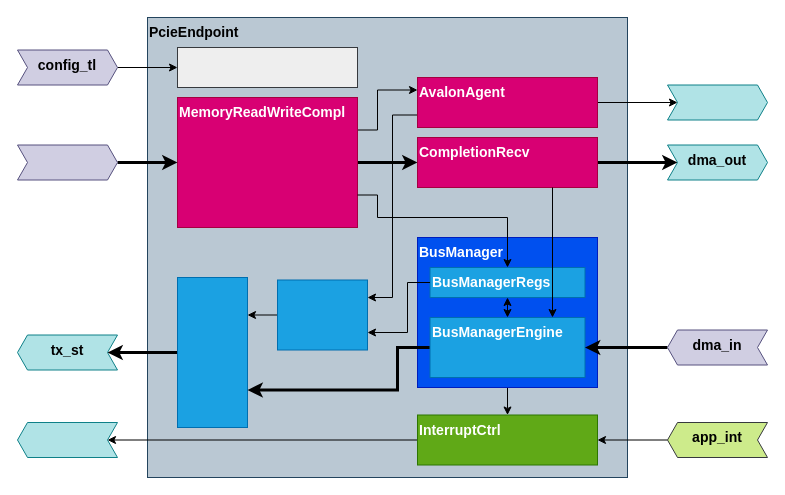
This 785x495 diagram has some shape labels left out. The centre of each missing label's shape, as x and y in pixels:
bar0: pixel 717 102
Completion Gen: pixel 322 314
Configuration: pixel 267 67
int_msi: pixel 67 440
rx_st: pixel 67 162
TxArbiter: pixel 212 352
